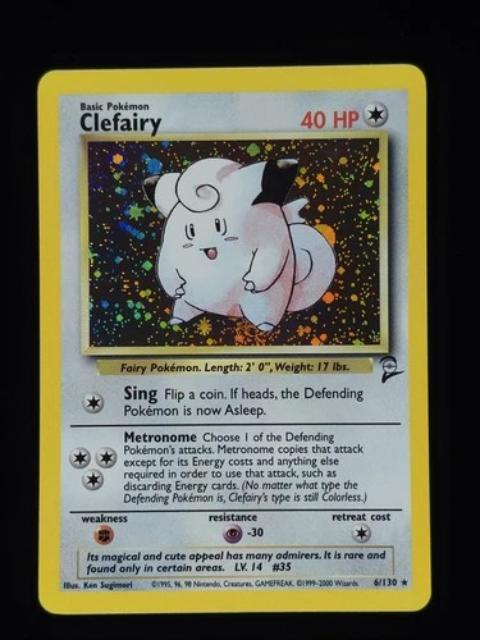Card: (32, 59, 431, 616)
Name: (74, 109, 170, 134)
